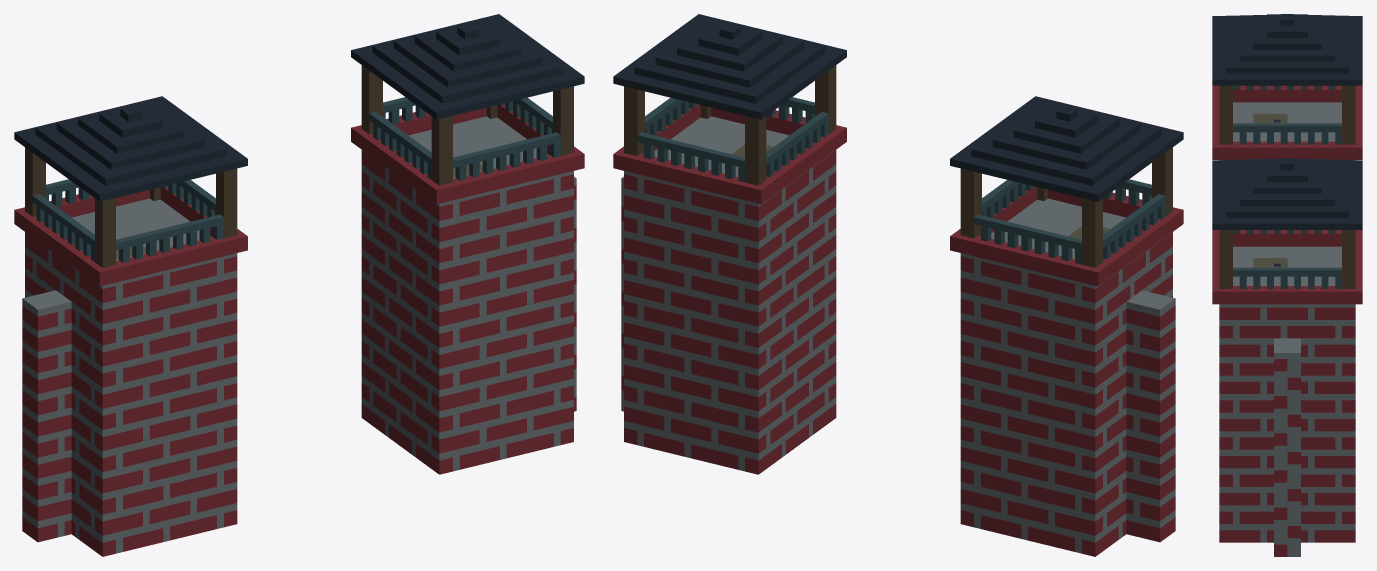
The model's file is wall2_gate.obj.
The picture shows the model from 3 angles, left to right: view 1: azimuth 30°, elevation 25°; view 2: azimuth 150°, elevation 25°; view 3: azimuth 270°, elevation 25°; orthographic projection. The views are drawn at different scales.
Size of the model in its own units: 8 by 5.7 by 2.2.
Materials: 1 (1 with a texture image).
